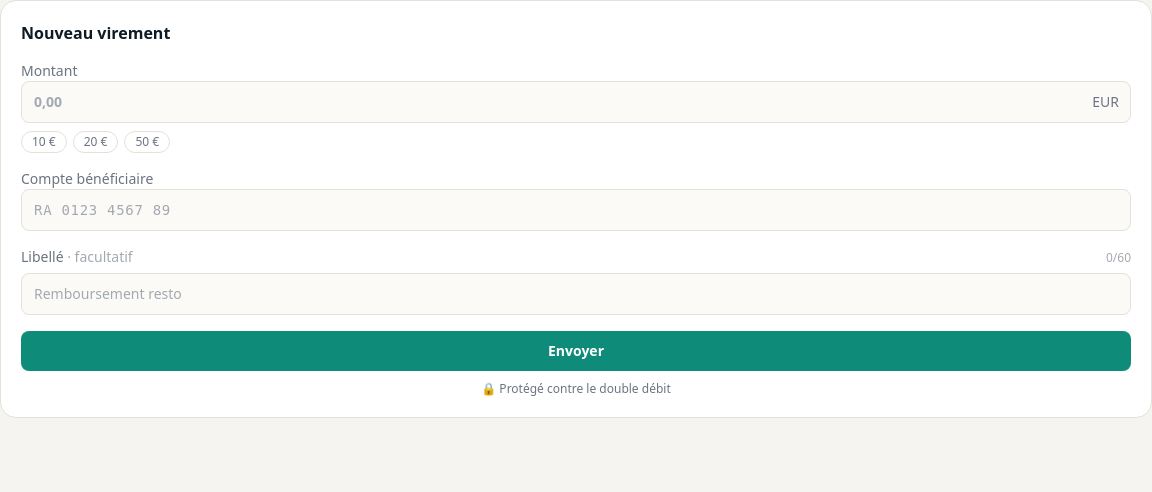
TransferForm : incident et nouvel essai › garde la clé quand on reclique sur le montant rapide déjà choisi (la saisie ne change pas)
Click the button "20 €": (96,142) left=73, top=131, right=118, bottom=153
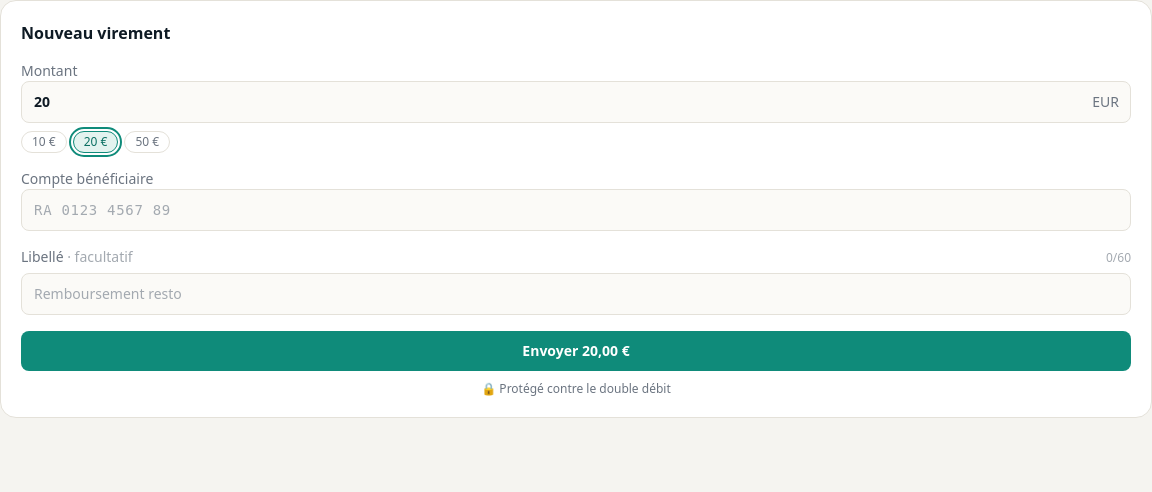
In the field labelled "Compte bénéficiaire": (576,210) left=21, top=189, right=1131, bottom=231, type "RA0123456789"
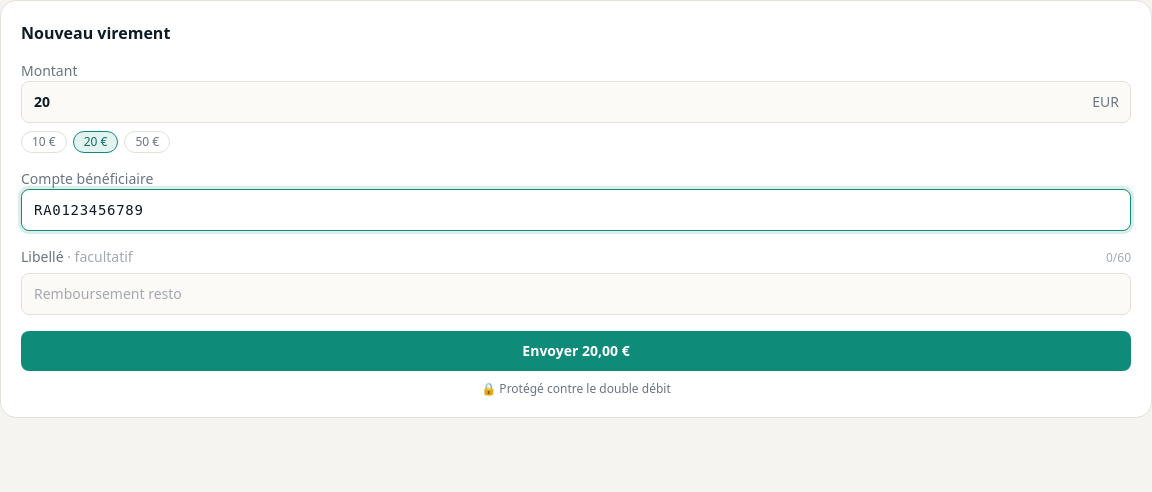
Click the button "Envoyer 20,00 €": (576,351) left=21, top=331, right=1131, bottom=371
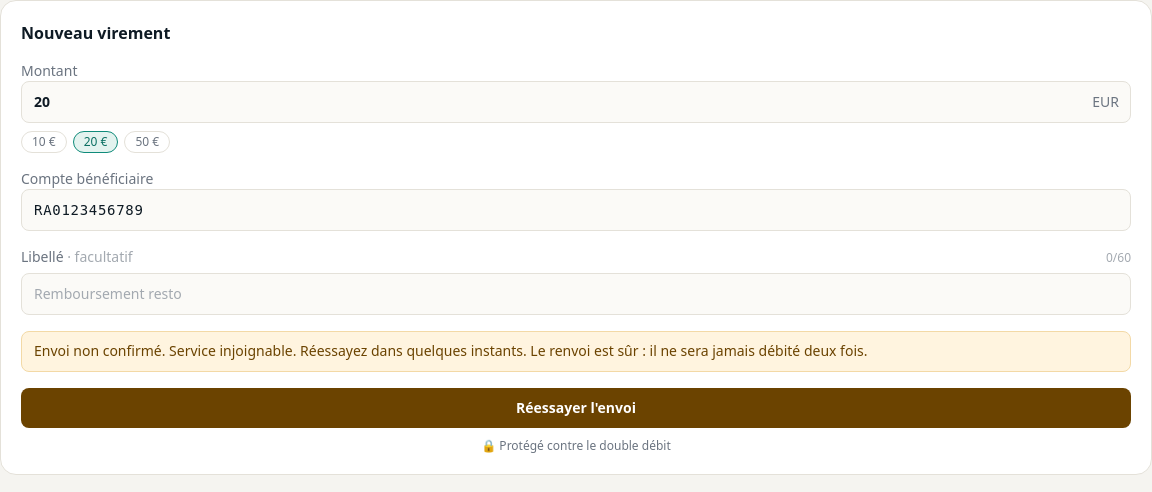
Now the text "Envoi non confirmé" is shown, box left=34, top=341, right=868, bottom=360
Click the button "20 €": (96,142) left=73, top=131, right=118, bottom=153
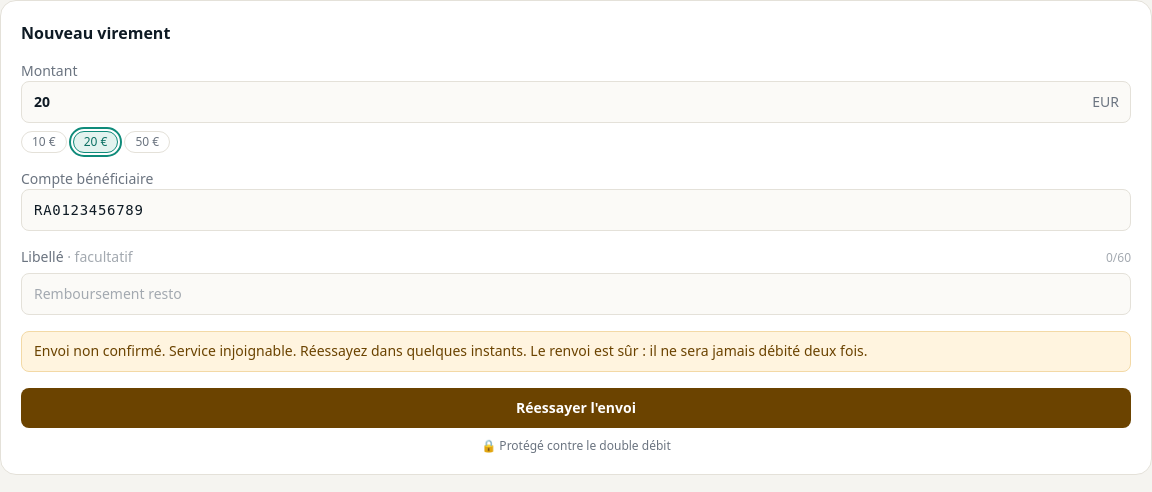
Now the button "Réessayer l'envoi" is shown
Click the button "Réessayer l'envoi": (576,408) left=21, top=388, right=1131, bottom=428
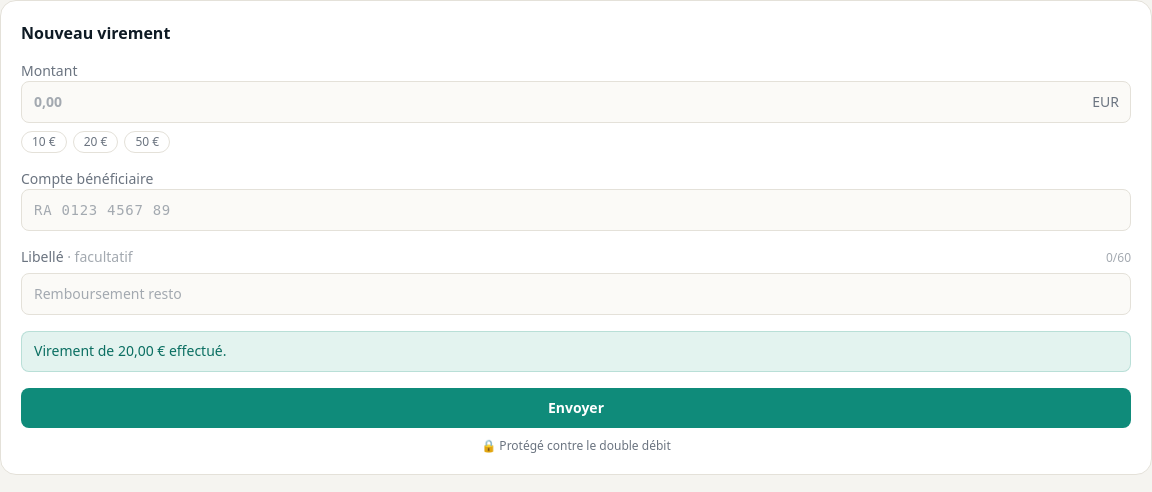
Now the text "Virement de 20,00 € effectué." is shown, box left=21, top=331, right=1131, bottom=372
